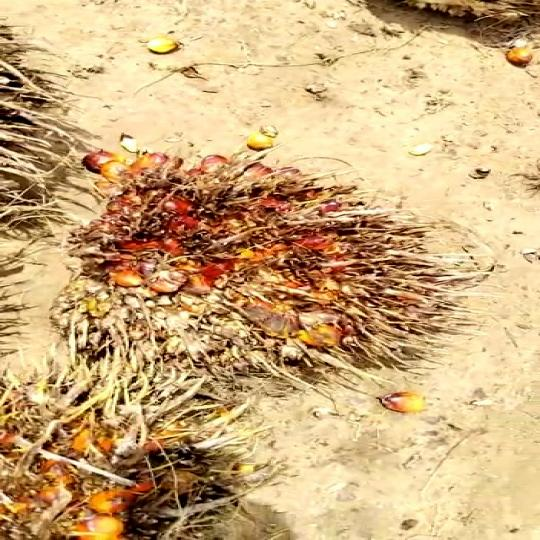terlalu masak: (47, 142, 476, 435)
